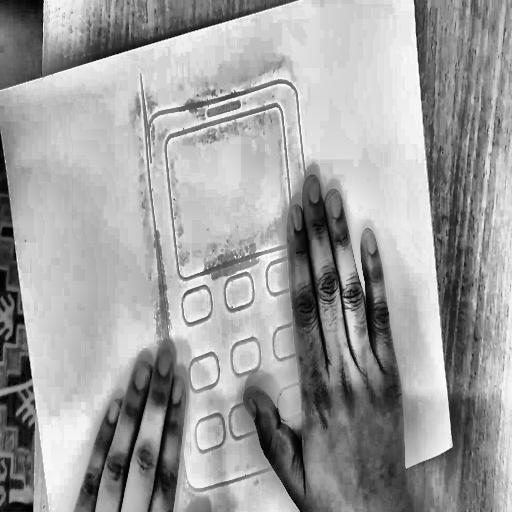bottom_right: (449, 439, 456, 452)
mobile: (123, 18, 356, 508)
